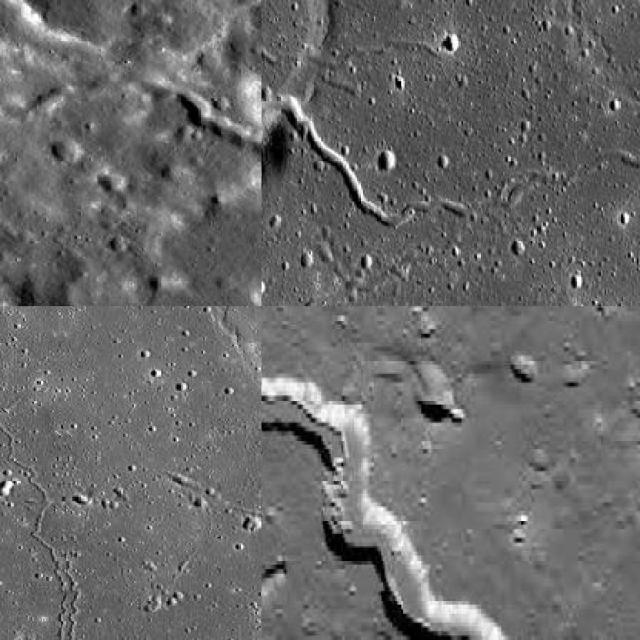rille: (261, 306, 617, 639), (263, 0, 639, 229), (0, 306, 71, 639), (169, 83, 260, 305), (64, 562, 170, 638), (262, 35, 446, 71)
